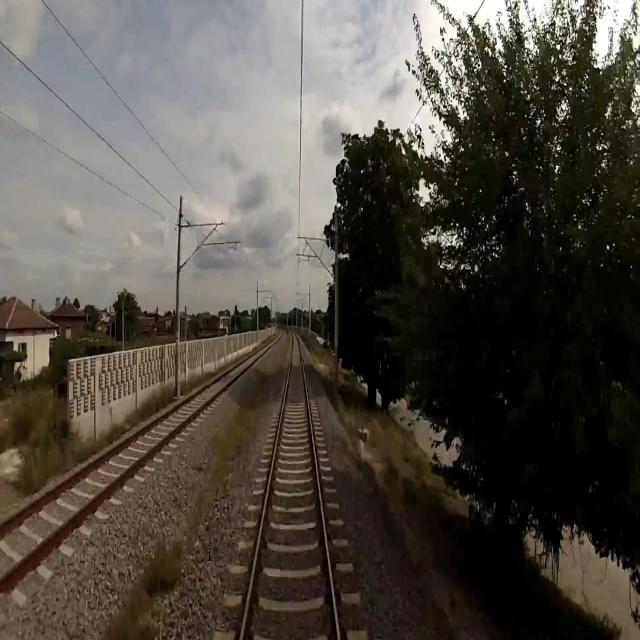rail-track: (244, 335, 335, 639)
